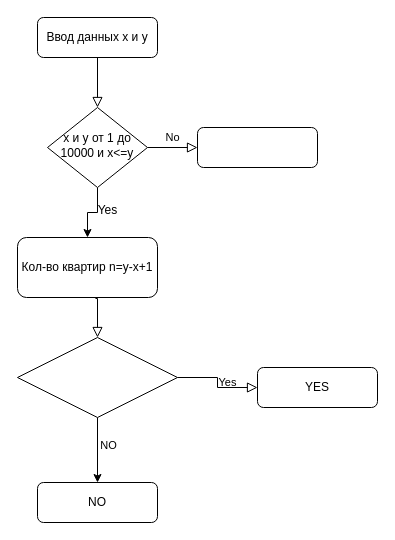
The diagram is 395 pixels wide and 540 high, and some of its shapes have lost their labels. Each missing label, with the centre of its shape:
Ошибка: (257,147)
Проверка на лишние (x-1)%n==0: (97,377)
